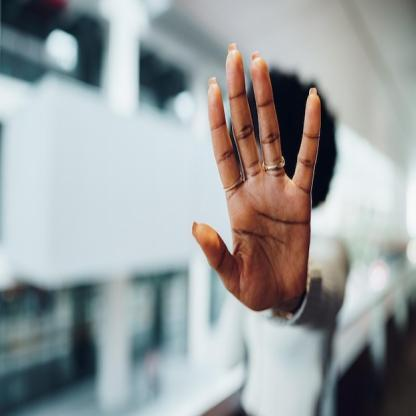stop: (188, 38, 324, 314)
